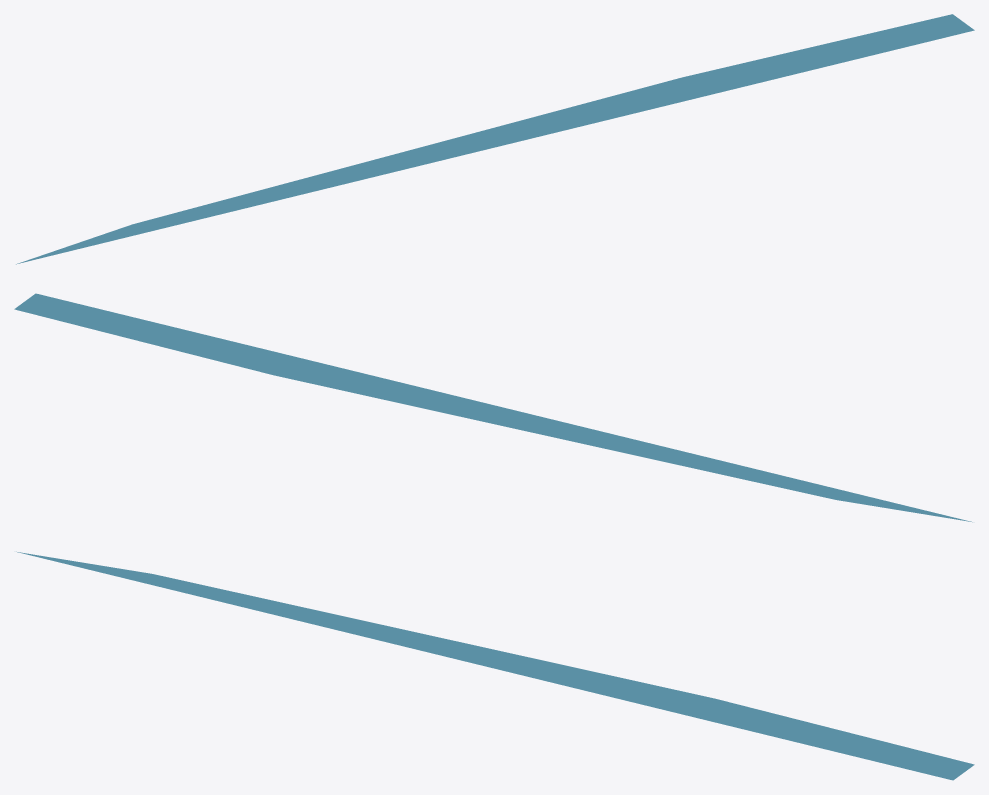
File: nature_12_-1.glb
The picture shows the model from 3 angles, top to bottom: view 1: azimuth 30°, elevation 25°; view 2: azimuth 150°, elevation 25°; view 3: azimuth 330°, elevation 25°; orthographic projection. The views are drawn at different scales.
Parts seen in each view (by area): view 1: water; view 2: water; view 3: water.
Boxes of the visible parts, x1=… form: water: x1=16, y1=14, x2=974, y2=264; water: x1=14, y1=293, x2=972, y2=522; water: x1=16, y1=551, x2=974, y2=780.
Size of the model in its own units: 129 by 0 by 5.83.
